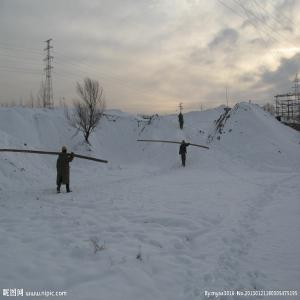red: (183, 140, 186, 144)
yellow: (62, 147, 68, 155)
